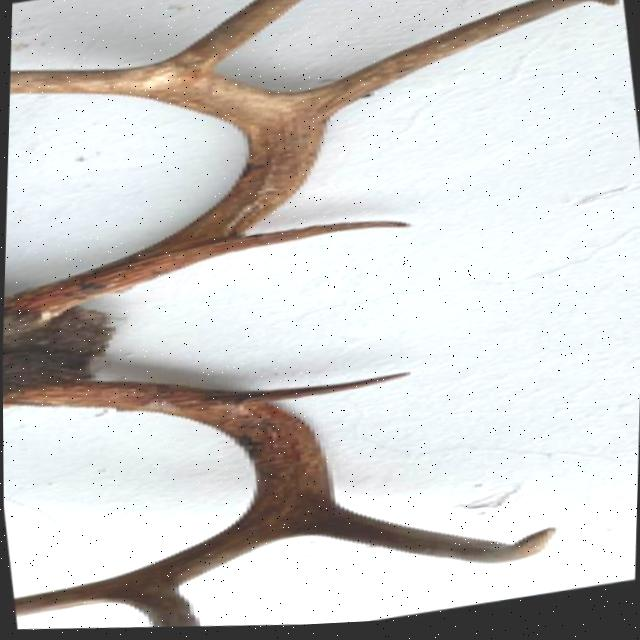L-F: (2, 65, 325, 321)
L-G1: (220, 223, 423, 257)
L-G2: (279, 0, 622, 124)
L-G3: (158, 0, 310, 72)
R-F: (2, 380, 333, 619)
R-G1: (244, 375, 412, 405)
R-G2: (283, 506, 557, 571)
R-G3: (104, 587, 201, 628)
